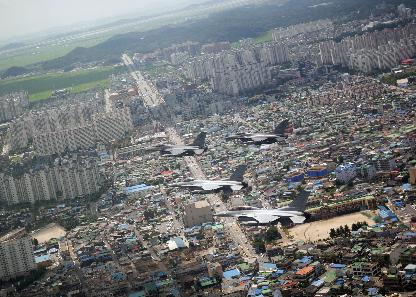F14: (209, 189, 316, 225), (167, 163, 253, 193), (142, 131, 214, 156), (223, 119, 294, 144)
